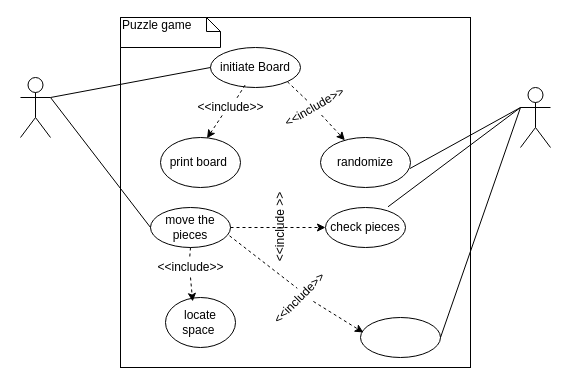
The diagram is 584 pixels wide and 385 high, and some of its shapes have lost their labels. Here are the shapes that lost their labels. From the top down, the box of each, then its label:
(20, 76, 50, 138): player
(520, 86, 550, 148): GAME REF
(360, 316, 440, 358): check winner
